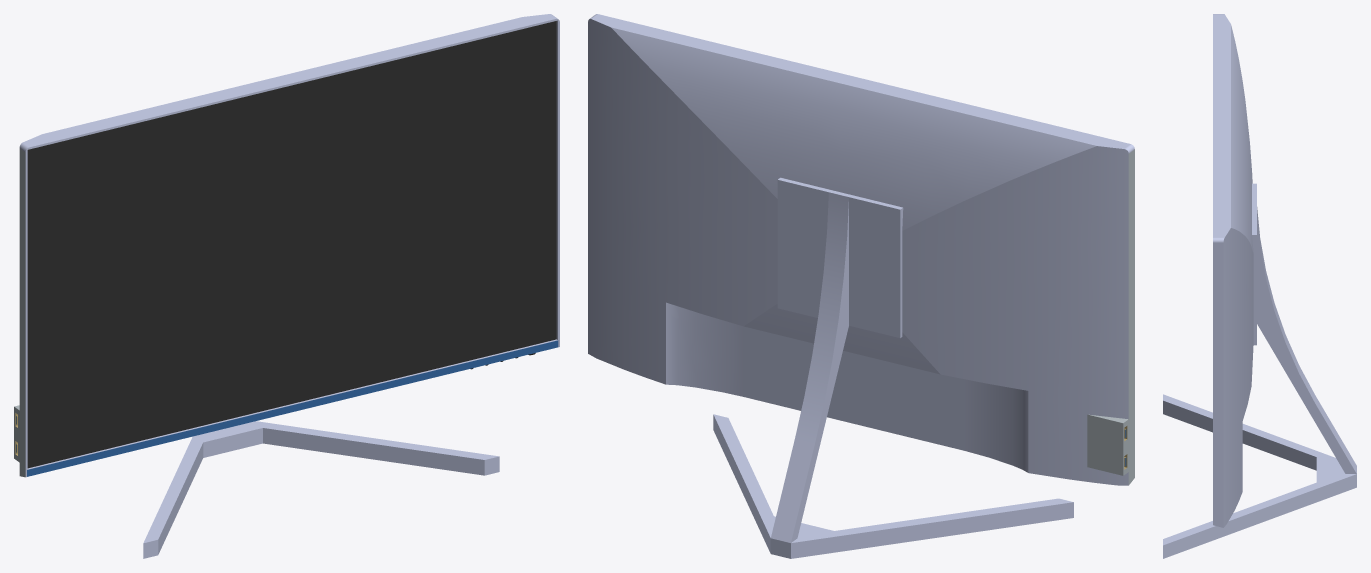
Rendered from monitor-24.glb.
3 renders of one model, left to right at view 1: azimuth 30°, elevation 25°; view 2: azimuth 150°, elevation 25°; view 3: azimuth 270°, elevation 25°, orthographic. The views are drawn at different scales.
Parts seen in each view (by area): view 1: Monitor; view 2: Monitor; view 3: Monitor.
Part boxes in pixels (bbox=[...]): Monitor: bbox=[14, 14, 559, 558]; Monitor: bbox=[588, 14, 1134, 558]; Monitor: bbox=[1163, 14, 1356, 558].
Size of the model in its own units: 0.537 by 0.395 by 0.194.
